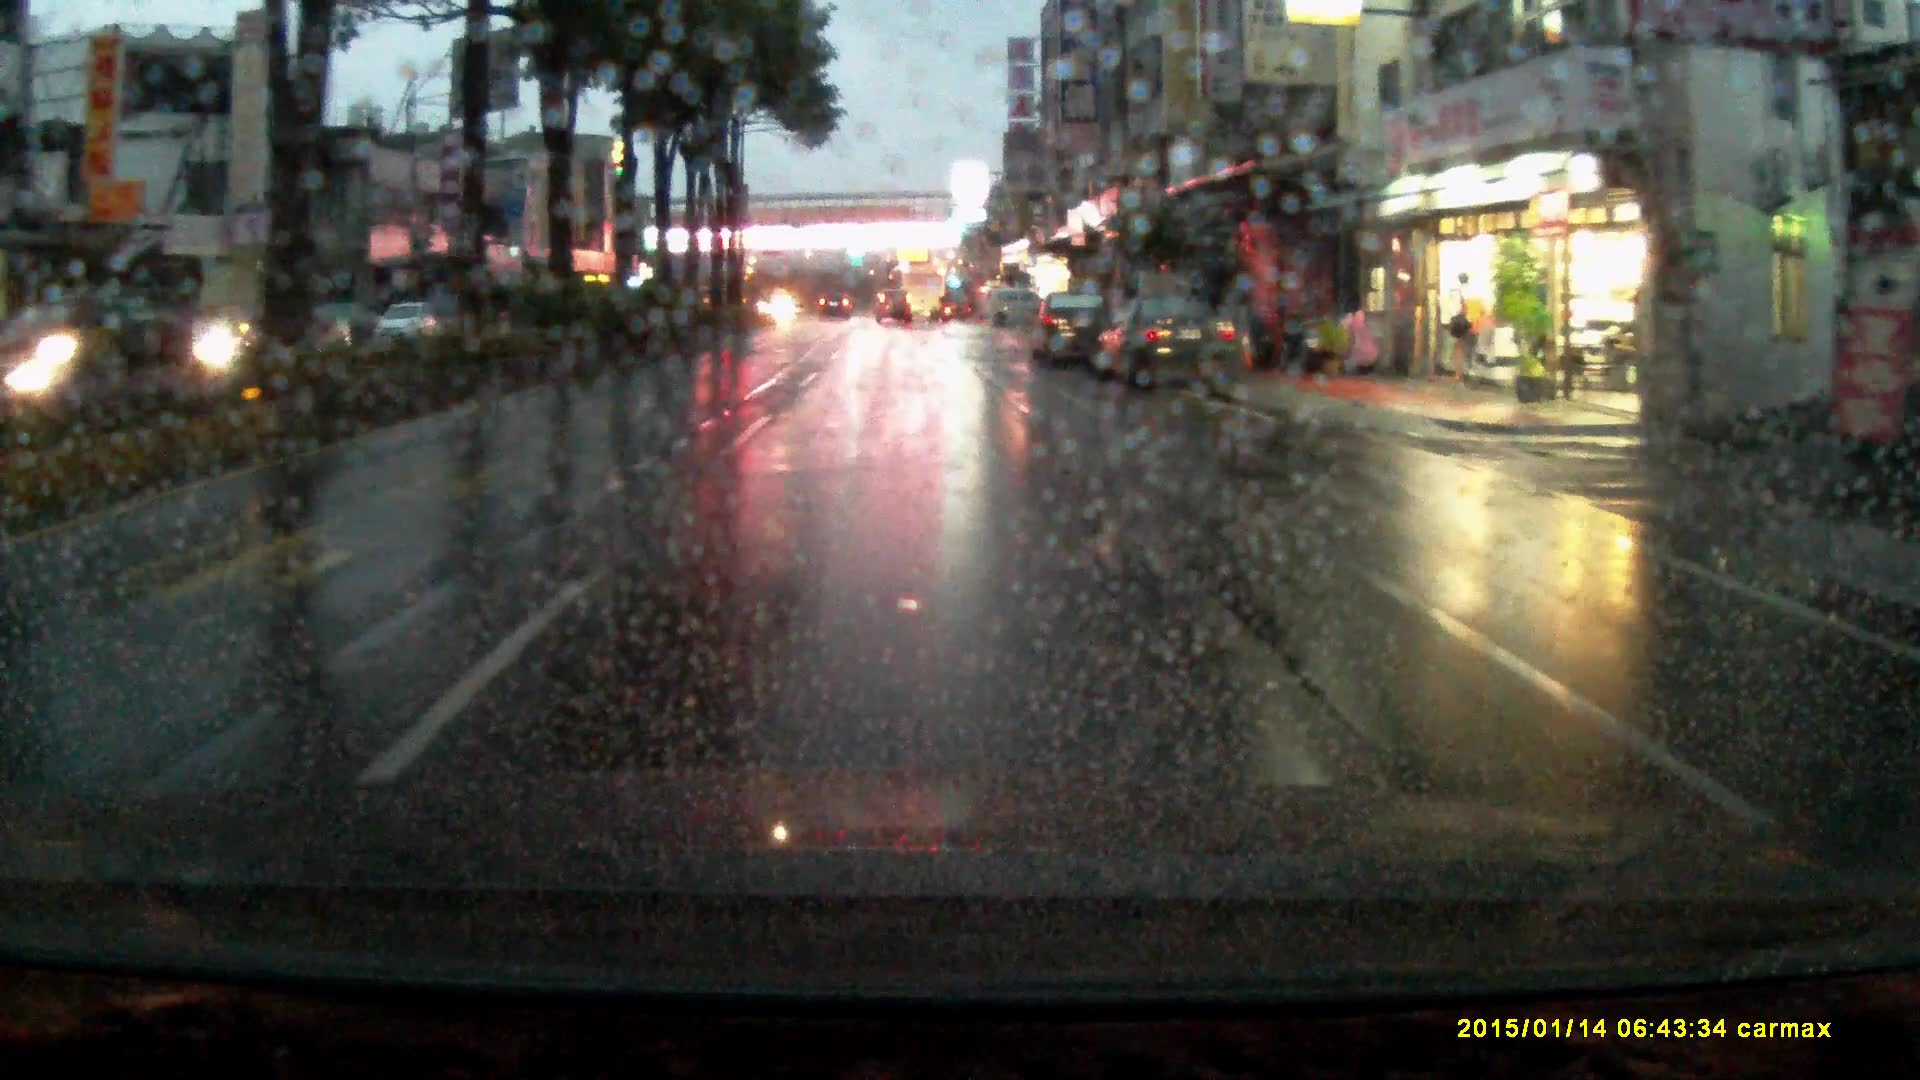rider: (25, 288, 104, 424)
vehicle: (1090, 304, 1245, 400), (1027, 301, 1115, 380), (253, 316, 348, 368), (891, 274, 945, 332), (978, 295, 1044, 337), (376, 309, 437, 351), (873, 300, 913, 334), (817, 300, 855, 330)
